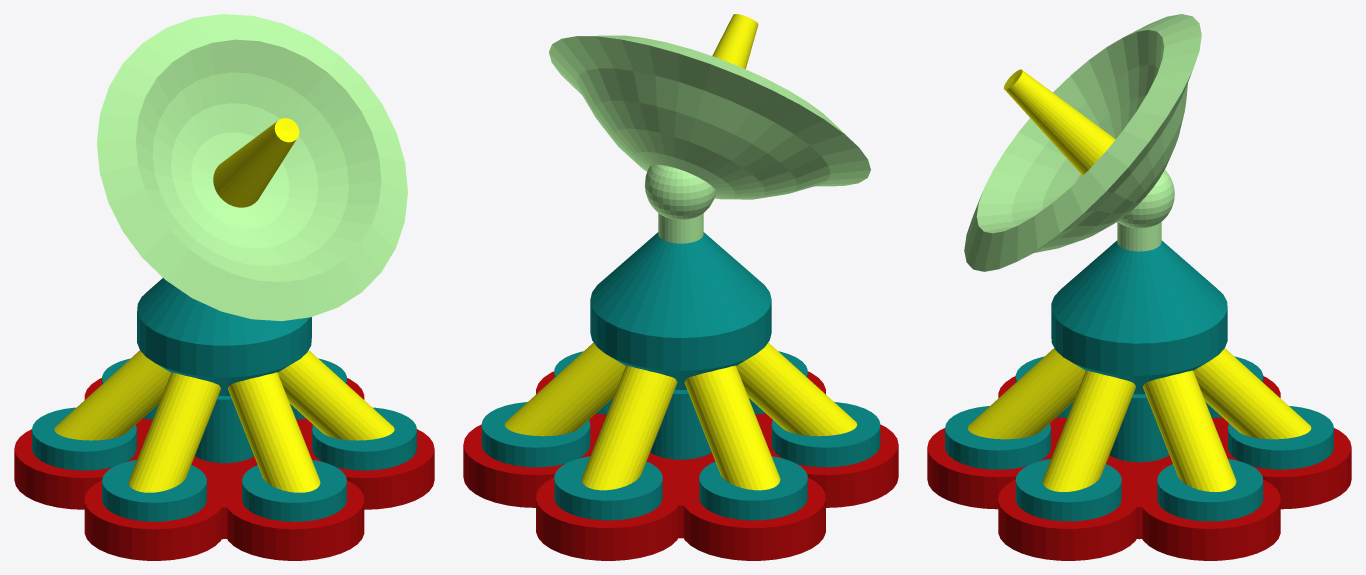
File: SeaRadar.dae
3 renders of one model, left to right at view 1: azimuth 30°, elevation 25°; view 2: azimuth 150°, elevation 25°; view 3: azimuth 270°, elevation 25°, orthographic. The views are drawn at different scales.
Parts seen in each view (by area): view 1: Cylinder.007, Cylinder.021; view 2: Cylinder.007, Cylinder.021; view 3: Cylinder.007, Cylinder.021.
Boxes of the visible parts, box(x1,y1,x2,y2) form: Cylinder.007: box(14, 278, 434, 560); Cylinder.021: box(97, 14, 407, 321); Cylinder.007: box(463, 232, 898, 560); Cylinder.021: box(549, 14, 870, 243); Cylinder.007: box(927, 240, 1351, 560); Cylinder.021: box(964, 14, 1201, 271).
Size of the model in its own units: 5.46 by 6 by 6.93.
